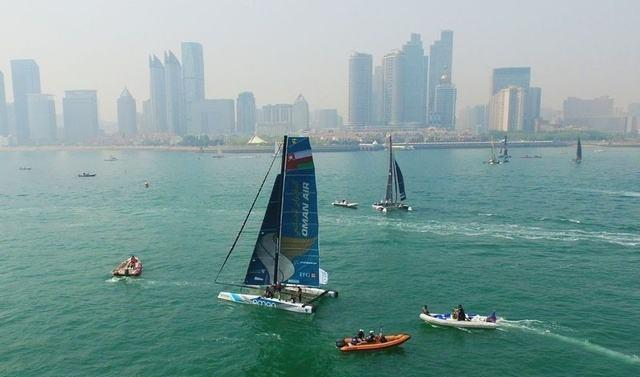fanchuan: (213, 136, 339, 313), (370, 127, 415, 212)
otherboat: (417, 301, 502, 331), (334, 325, 412, 353), (112, 254, 145, 279)
